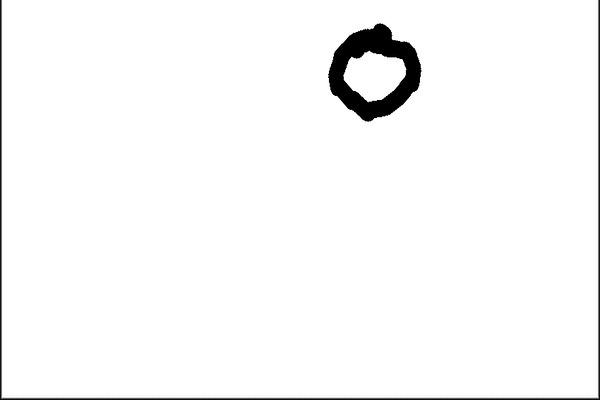O: (323, 19, 427, 128)
